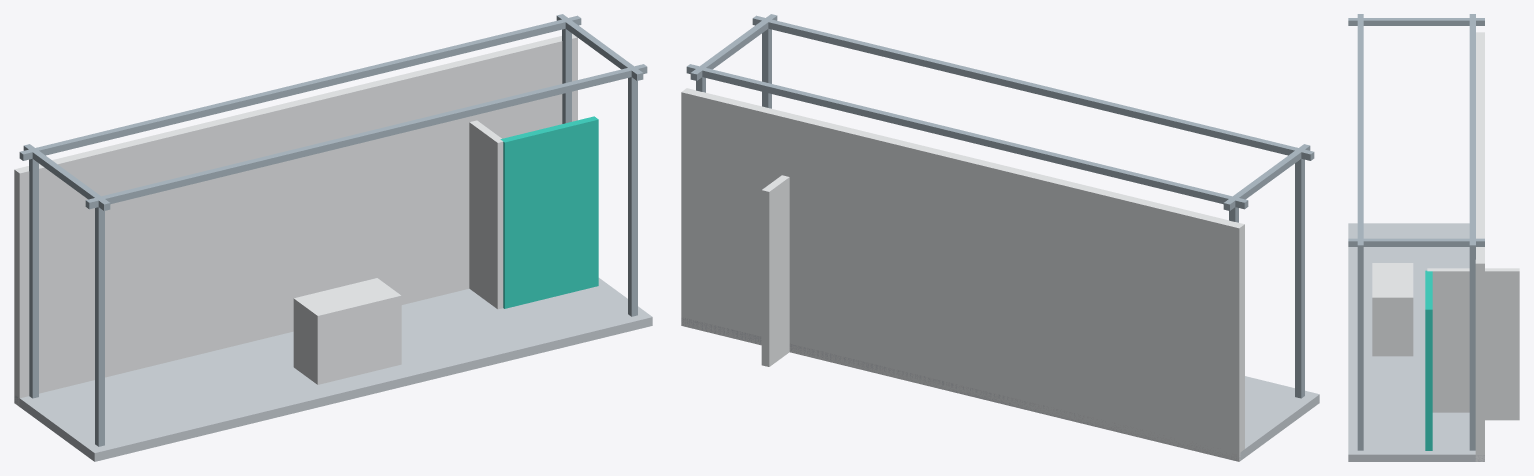
The picture shows the model from 3 angles, left to right: view 1: azimuth 30°, elevation 25°; view 2: azimuth 150°, elevation 25°; view 3: azimuth 270°, elevation 25°; orthographic projection. The views are drawn at different scales.
Visible parts, largest first — view 1: Exhibition Booth Concept; view 2: Exhibition Booth Concept; view 3: Exhibition Booth Concept.
Boxes of the visible parts, x1=… form: Exhibition Booth Concept: x1=14, y1=14, x2=652, y2=461; Exhibition Booth Concept: x1=681, y1=14, x2=1319, y2=461; Exhibition Booth Concept: x1=1348, y1=14, x2=1519, y2=461.
Bounding box in the file's own units: 8 × 3.49 × 2.5.
